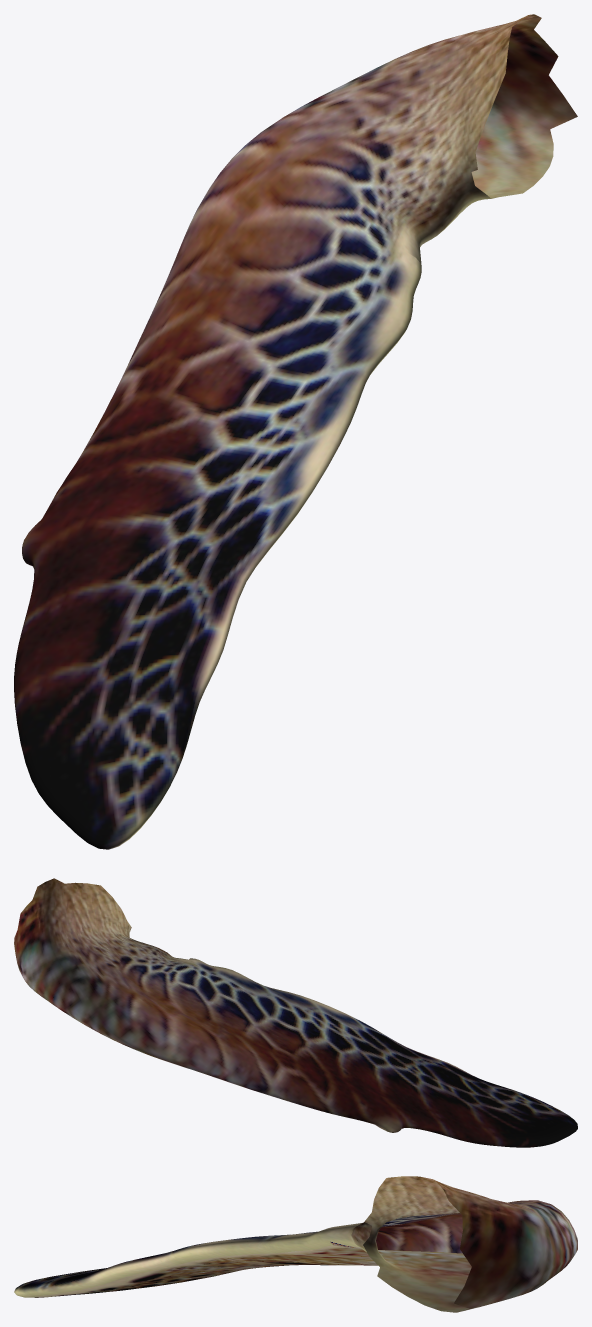
File: tortuga_brazoderecho.obj
3 renders of one model, top to bottom at view 1: azimuth 30°, elevation 25°; view 2: azimuth 150°, elevation 25°; view 3: azimuth 270°, elevation 25°, orthographic. The views are drawn at different scales.
Parts seen in each view (by area): view 1: tortuga_brazoderecho:_Sea_Turtle_V1; view 2: tortuga_brazoderecho:_Sea_Turtle_V1; view 3: tortuga_brazoderecho:_Sea_Turtle_V1.
Boxes of the visible parts, x1,y1,x2,y2 form: tortuga_brazoderecho:_Sea_Turtle_V1: [14, 14, 577, 849]; tortuga_brazoderecho:_Sea_Turtle_V1: [14, 878, 577, 1147]; tortuga_brazoderecho:_Sea_Turtle_V1: [14, 1176, 577, 1312].
Size of the model in its own units: 33.83 by 20.42 by 27.62.
Materials: 1 (1 with a texture image).
